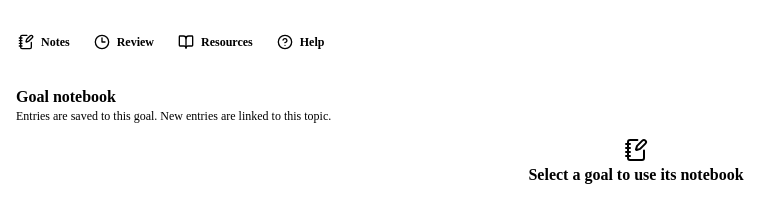
Test: generated topic content presentation › omits the resources-tab attribution panel when the Sources layer has no artifact yet
The image size is (761, 201).
Click the tab "Resources": (215, 42) [166,16,265,68]
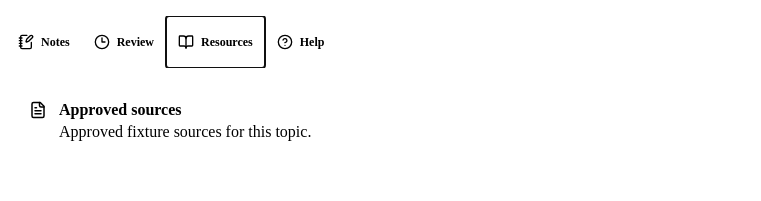
Expected: the text "Approved fixture sources for this topic." is shown, [59,123,311,140]
